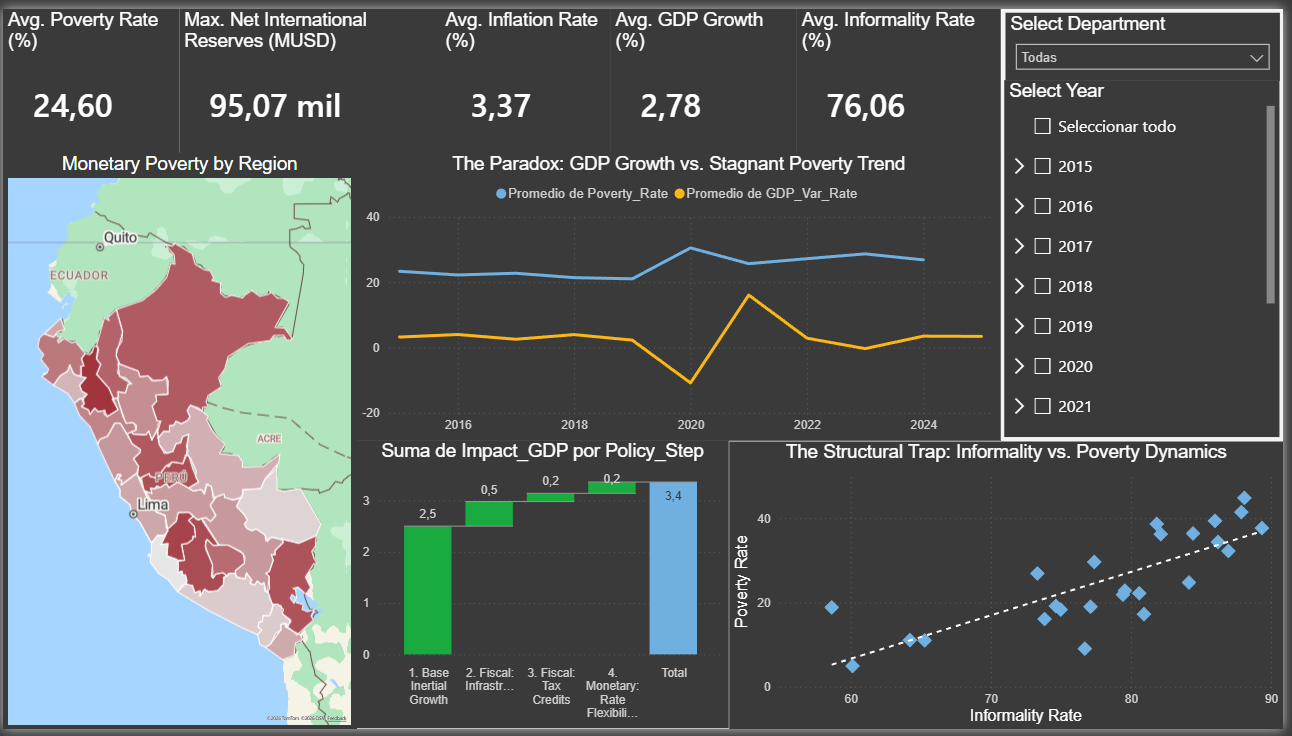

The page's visual inventory and layout, read from the dashboard file:
{"tool":"powerbi","page":{"name":"Perú Policy Dashboard","canvas":[1280,720],"ordinal":0},"visuals":[{"type":"cardVisual","title":"Max. Net International Reserves (MUSD)","fields":{"Data":["Max(Fact_Macro_Indicators.Net_Int_Reserves_MUSD)"]},"box":[176.2,0,261.2,143.8],"z":0},{"type":"cardVisual","title":"Avg. GDP Growth (%)","fields":{"Data":["Avg(Fact_Macro_Indicators.GDP_Var_Rate)"]},"box":[608,0,186,144],"z":1000},{"type":"cardVisual","title":"Avg. Inflation Rate (%)","fields":{"Data":["Avg(Fact_Macro_Indicators.Inflation_Rate)"]},"box":[438,0,170,144],"z":2000},{"type":"cardVisual","title":"Avg. Poverty Rate (%)","fields":{"Data":["Avg(Fact_Regional_Development.Poverty_Rate)"]},"box":[0,0,176.2,143.8],"z":3000},{"type":"cardVisual","title":"Avg. Informality Rate (%)","fields":{"Data":["Avg(Fact_Regional_Development.Informality_Rate)"]},"box":[794,0,204,144],"z":4000},{"type":"lineChart","title":"The Paradox: GDP Growth vs. Stagnant Poverty Trend","fields":{"Category":["Dim_Calendar.Year_Num","Dim_Calendar.Month_Num"],"Y":["Avg(Fact_Regional_Development.Poverty_Rate)","Avg(Fact_Macro_Indicators.GDP_Var_Rate)"]},"box":[354,144,644,288],"z":5000},{"type":"listSlicer","title":"Select Year","fields":{"Values":["Dim_Calendar.Year_Num","Dim_Calendar.Month_Num"]},"box":[1002.5,71.2,275,357.5],"z":6000},{"type":"azureMap","title":"Monetary Poverty by Region","fields":{"Category":["Dim_Department.Pais","Dim_Department.Region_Mapa"]},"box":[0,143.3,353.3,576.7],"z":7000},{"type":"slicer","title":"Select Department","fields":{"Values":["Dim_Department.Department_Name"]},"box":[1002,4,274,68],"z":8000},{"type":"waterfallChart","title":"Policy Proposal & Multiplier Effect","fields":{"Category":["Policy_Projection.Policy_Step"],"Y":["Sum(Policy_Projection.Impact_GDP)"]},"box":[353.8,431.2,440,288.8],"z":9000},{"type":"scatterChart","title":"The Structural Trap: Informality vs. Poverty Dynamics","fields":{"X":["Avg(Fact_Regional_Development.Informality_Rate)"],"Y":["Avg(Fact_Regional_Development.Poverty_Rate)"],"Category":["Dim_Department.Department_Name"]},"box":[793.8,432.5,486.2,287.5],"z":10000}]}

Visuals, with their boxes in screenshot pixels (x1, y1, x2, y2), scaled from the page's 1280x720 canvas onto the 1292x736 screenshot:
"Max. Net International Reserves (MUSD)" cardVisual: crop(178, 0, 442, 147)
"Avg. GDP Growth (%)" cardVisual: crop(614, 0, 801, 147)
"Avg. Inflation Rate (%)" cardVisual: crop(442, 0, 614, 147)
"Avg. Poverty Rate (%)" cardVisual: crop(0, 0, 178, 147)
"Avg. Informality Rate (%)" cardVisual: crop(801, 0, 1007, 147)
"The Paradox: GDP Growth vs. Stagnant Poverty Trend" lineChart: crop(357, 147, 1007, 442)
"Select Year" listSlicer: crop(1012, 73, 1289, 438)
"Monetary Poverty by Region" azureMap: crop(0, 146, 357, 735)
"Select Department" slicer: crop(1011, 4, 1288, 74)
"Policy Proposal & Multiplier Effect" waterfallChart: crop(357, 441, 801, 735)
"The Structural Trap: Informality vs. Poverty Dynamics" scatterChart: crop(801, 442, 1291, 735)
